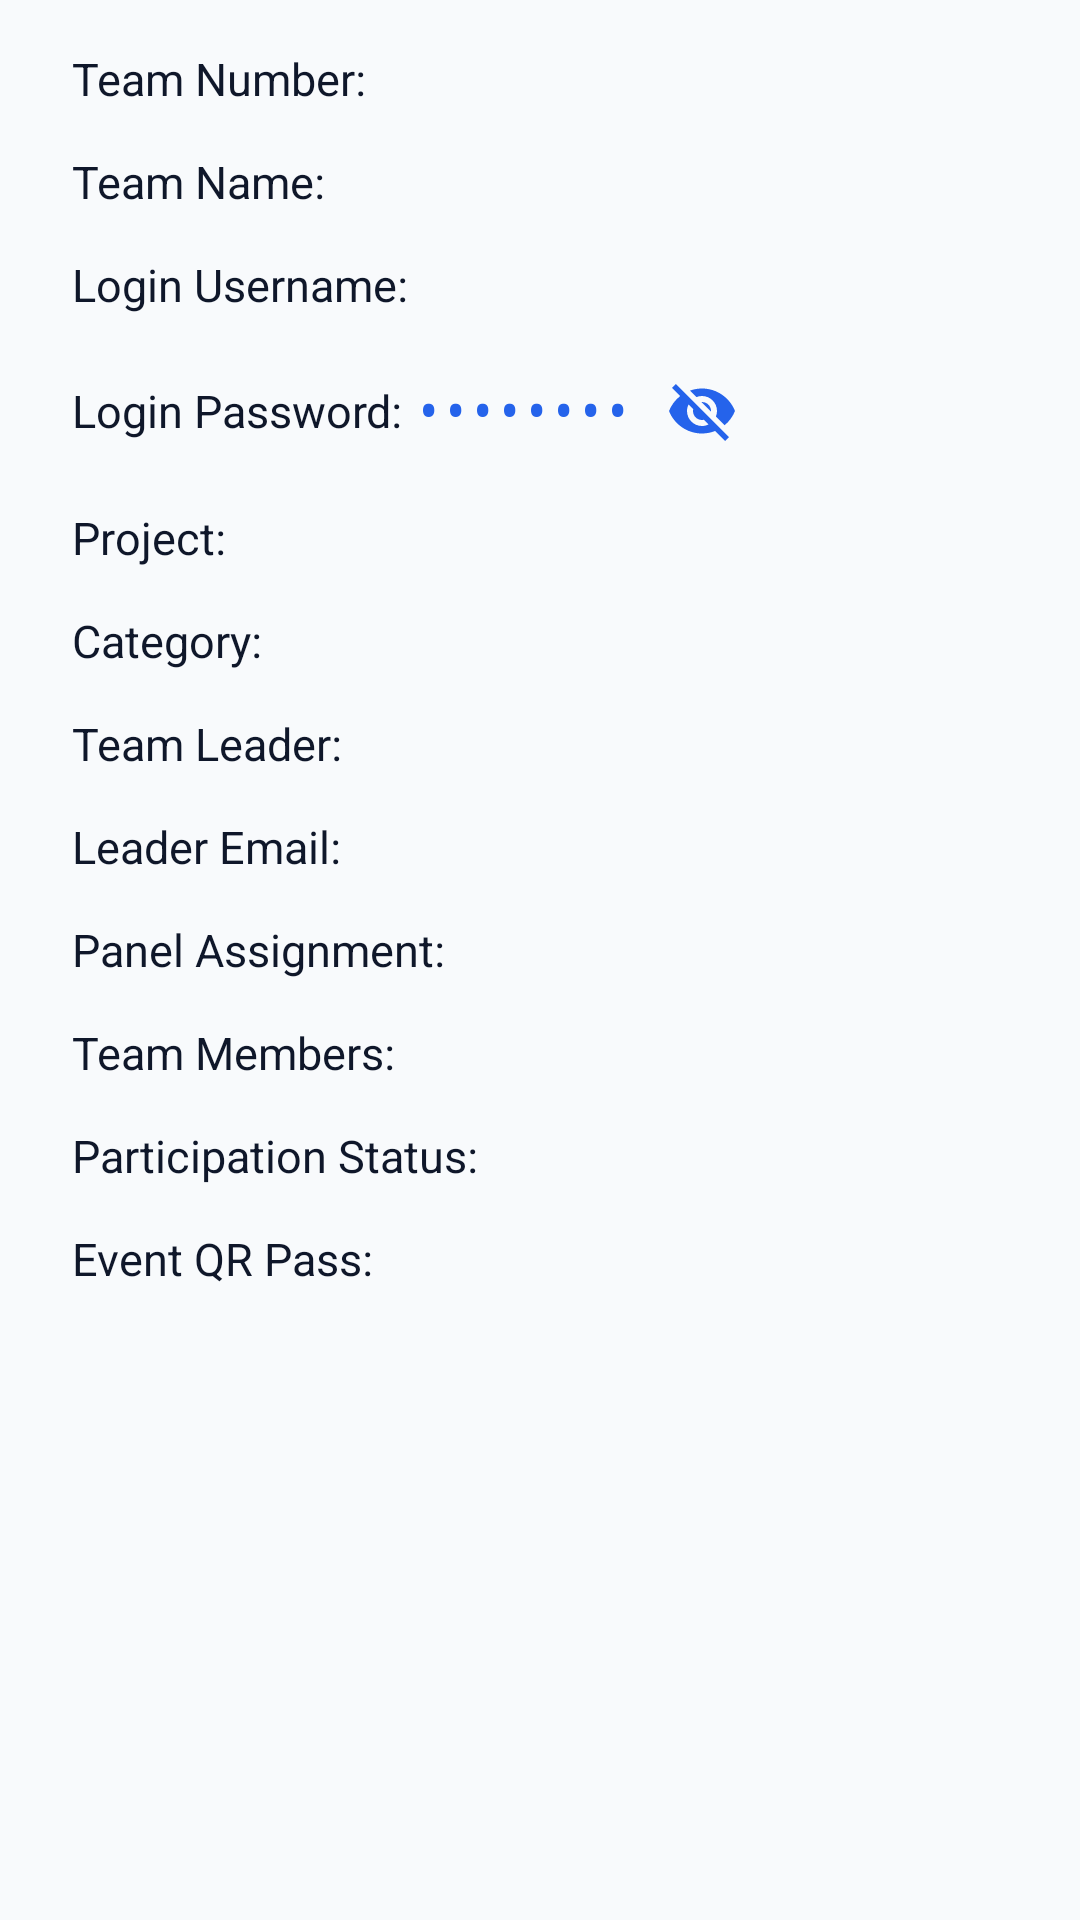

Locate icon controls on the screen. Image size 1080 x 1920, boxes as (x1, y1, x2, y2).
Toggle Password Visibility: (669, 384, 735, 441)
